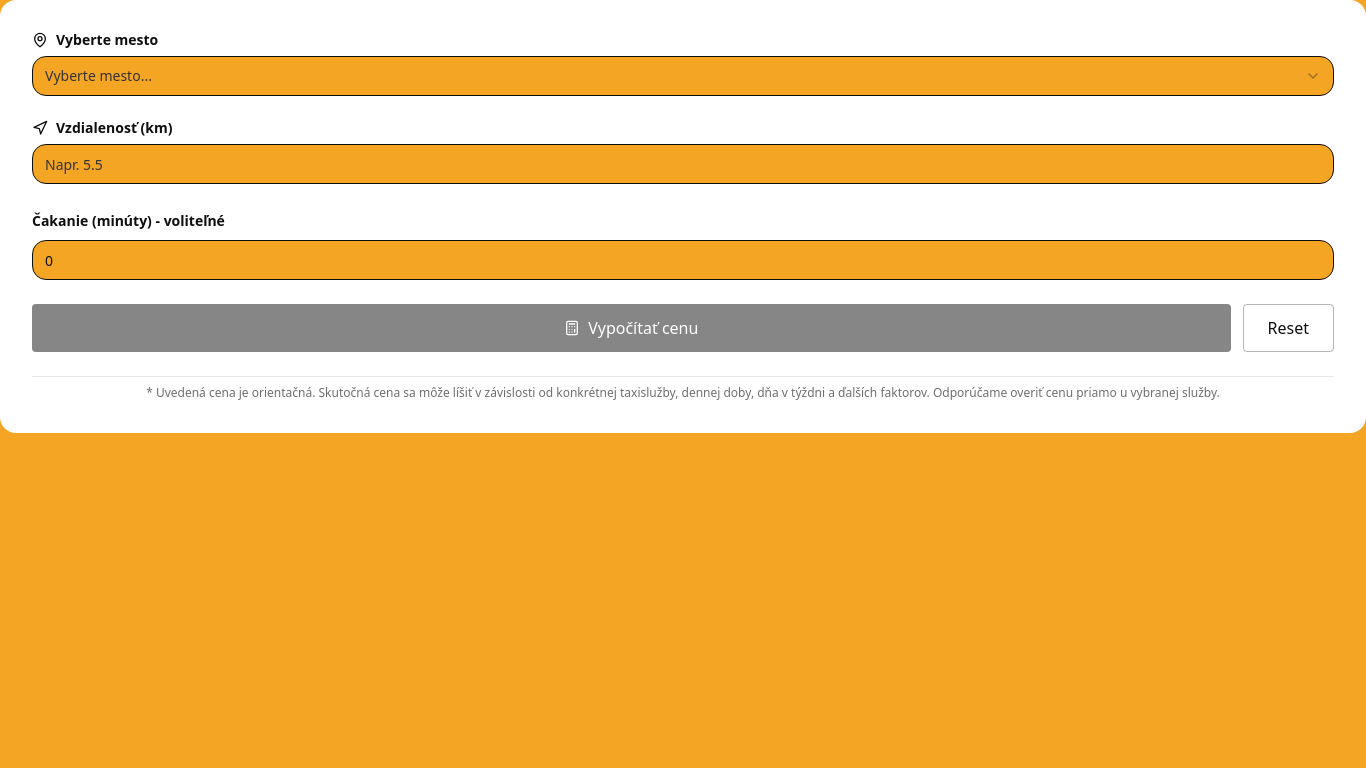
Test: PriceCalculator › Výpočet ceny › vypočíta cenu bez čakania
Note: Vyber mesto Košice
Click the dropdown at (98, 76), box [32,56,1334,96]
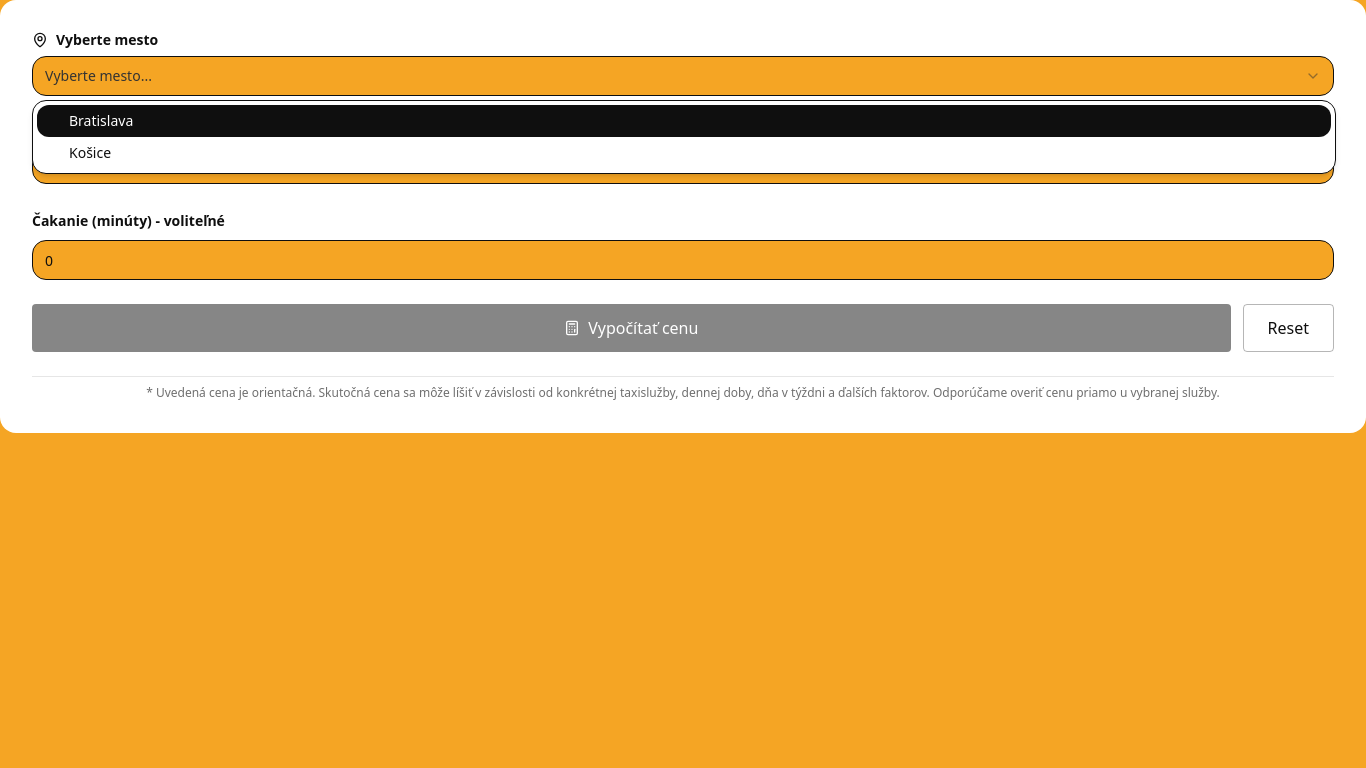
Click the option "Košice" at (90, 152), box [69,143,111,162]
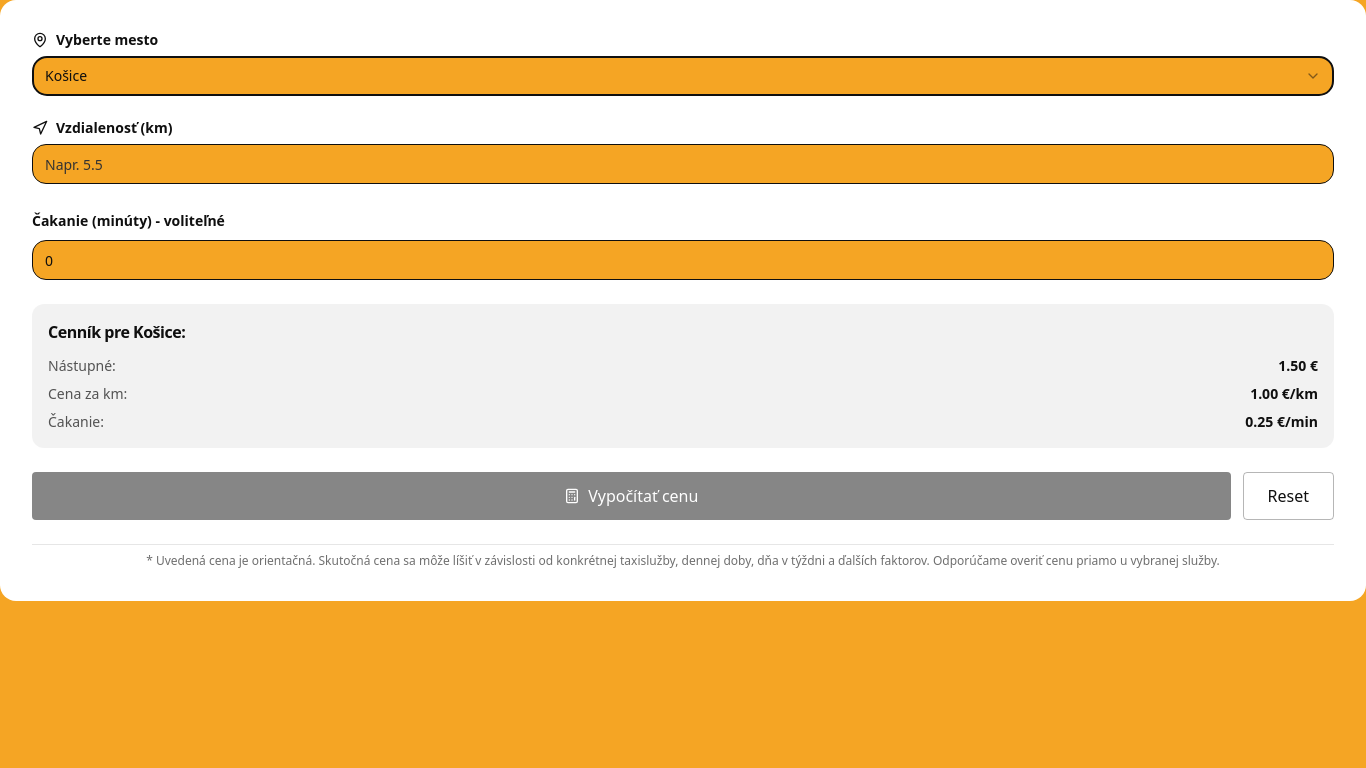
Note: Zadaj vzdialenosť 5 km
Type "5" into the number field labelled "Vzdialenosť (km)" at (683, 164), box [32,144,1334,184]
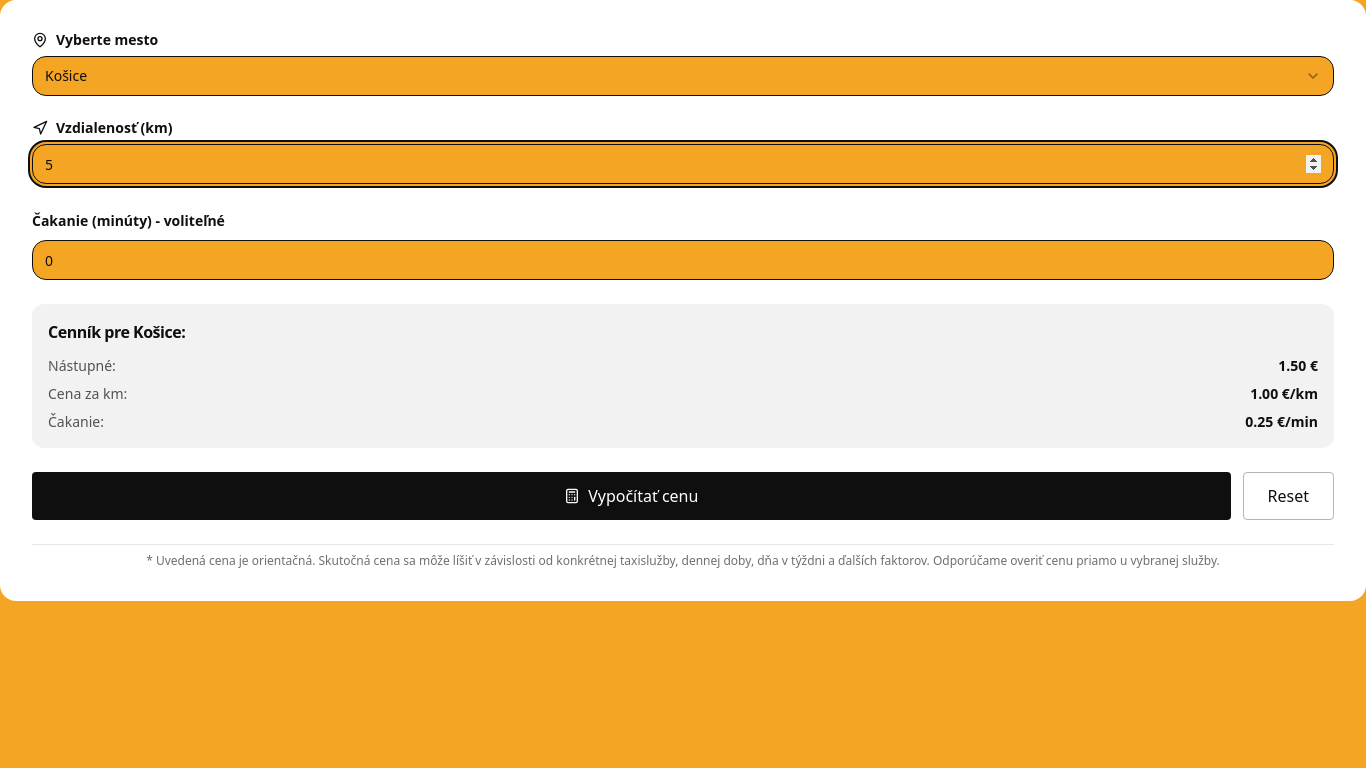
Note: Klikni na Vypočítať (čakanie je default 0)
Click the button "Vypočítať cenu" at (631, 496), box [32,472,1230,520]
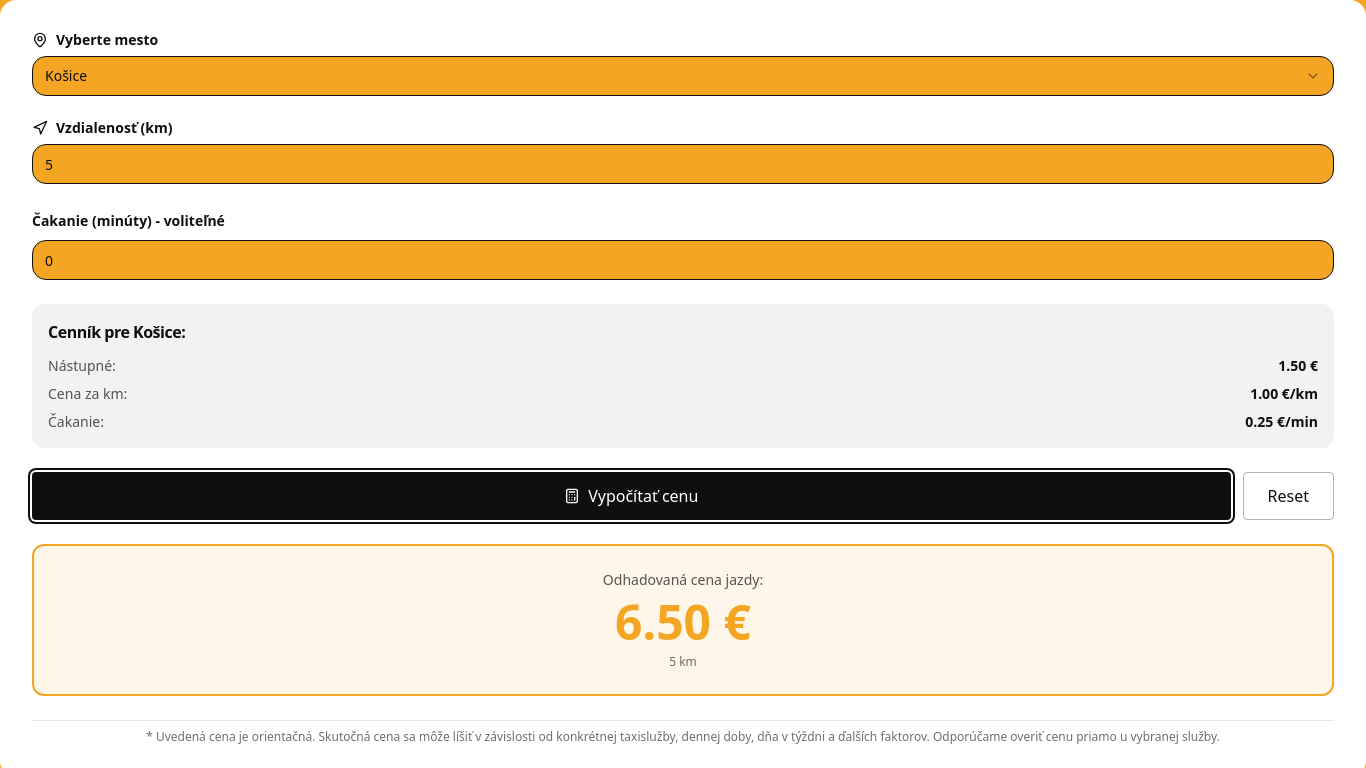
Check: the text "6.50 €" is shown, box [615,589,751,654]
